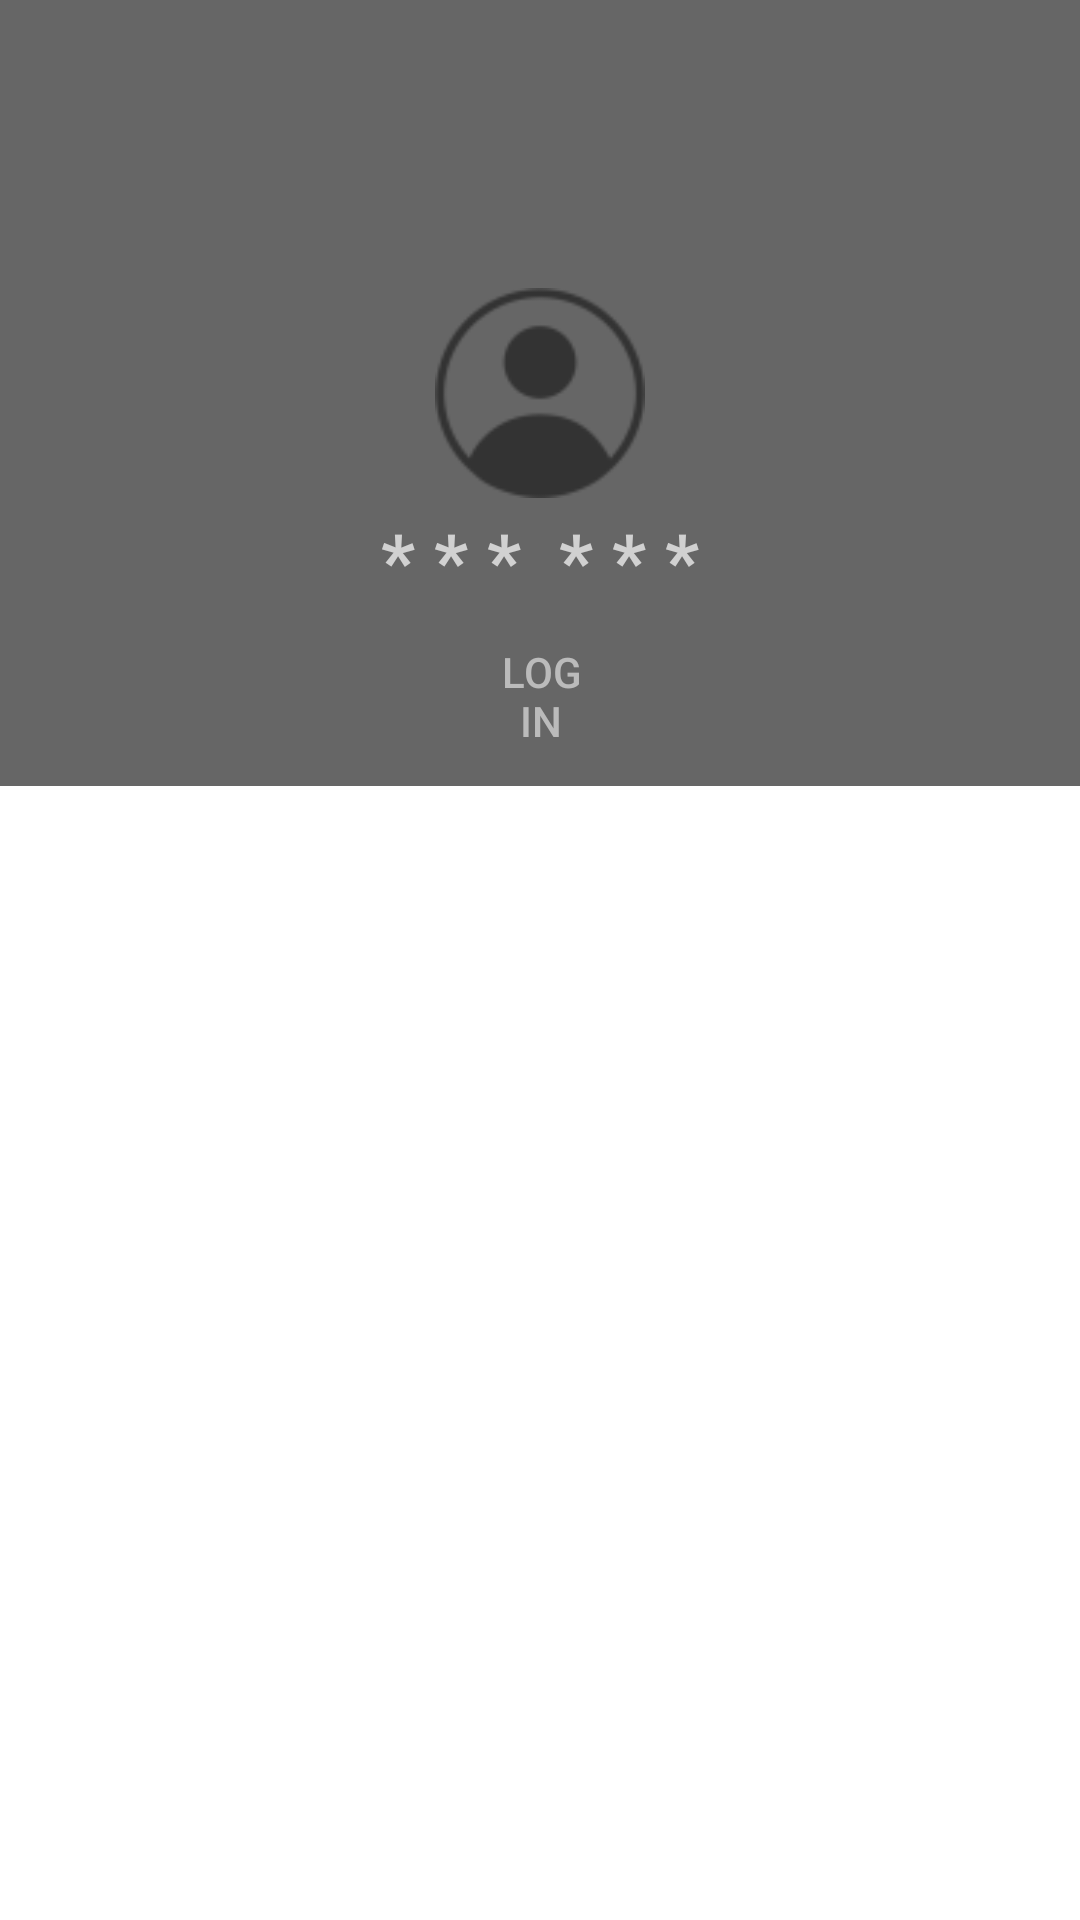

Icons on this 1080 × 1920 Android screen, each with the point to tap as [x,y]:
profile: [540,393]
